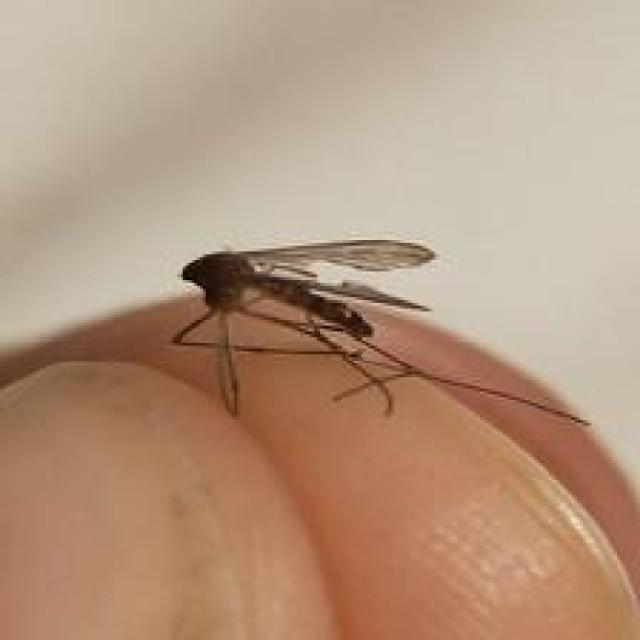Culex: (168, 237, 592, 429)
